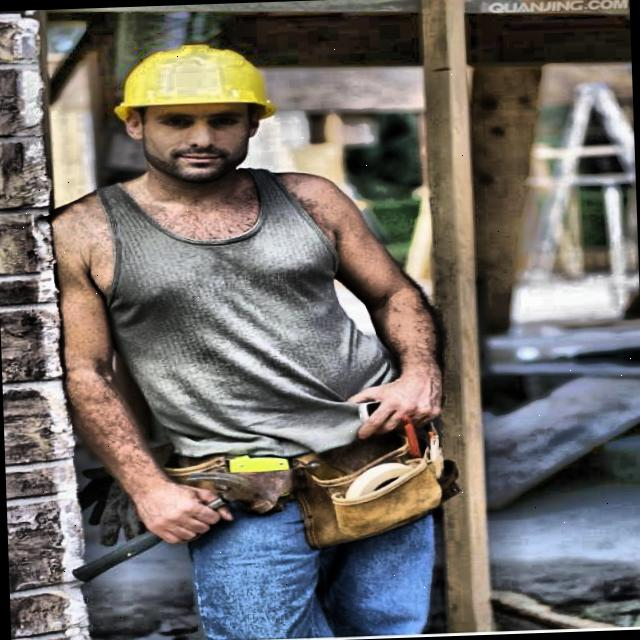helmet: (91, 31, 302, 198)
